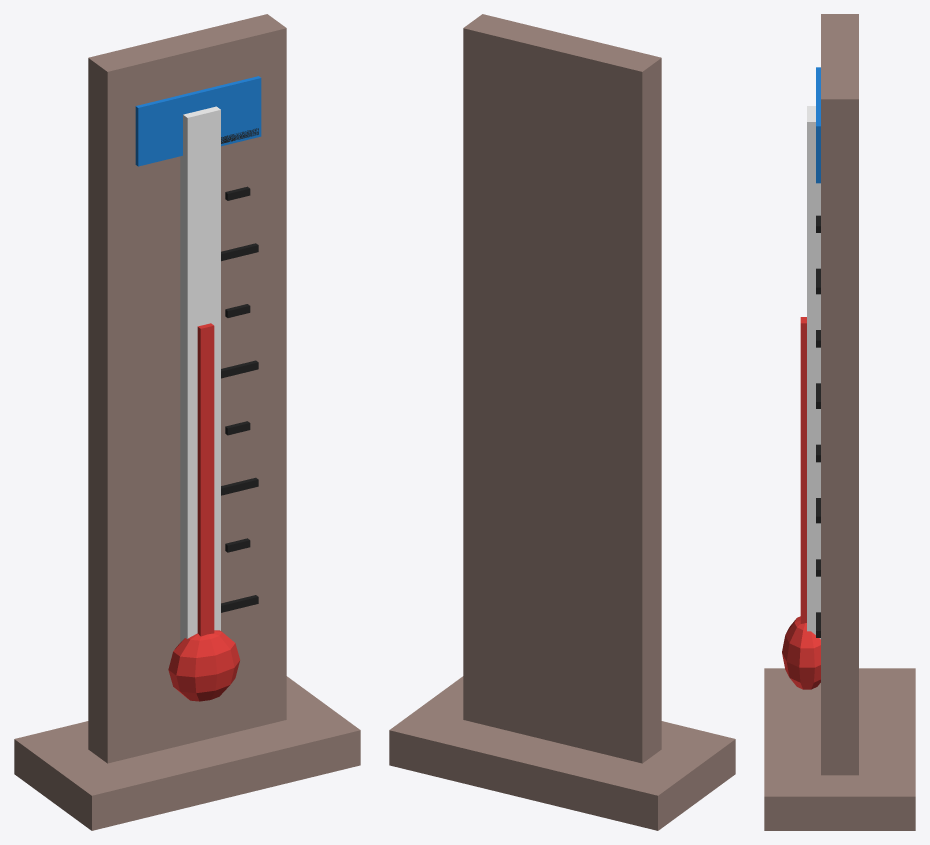
Rendered from termometer.glb.
The picture shows the model from 3 angles, left to right: view 1: azimuth 30°, elevation 25°; view 2: azimuth 150°, elevation 25°; view 3: azimuth 270°, elevation 25°; orthographic projection. The views are drawn at different scales.
Parts seen in each view (by area): view 1: termometer; view 2: termometer; view 3: termometer.
Part boxes in pixels (x1,y1,x2,y2): termometer: [14, 14, 360, 830]; termometer: [389, 14, 735, 830]; termometer: [764, 14, 915, 830].
Size of the model in its own units: 0.24 by 0.62 by 0.12.
